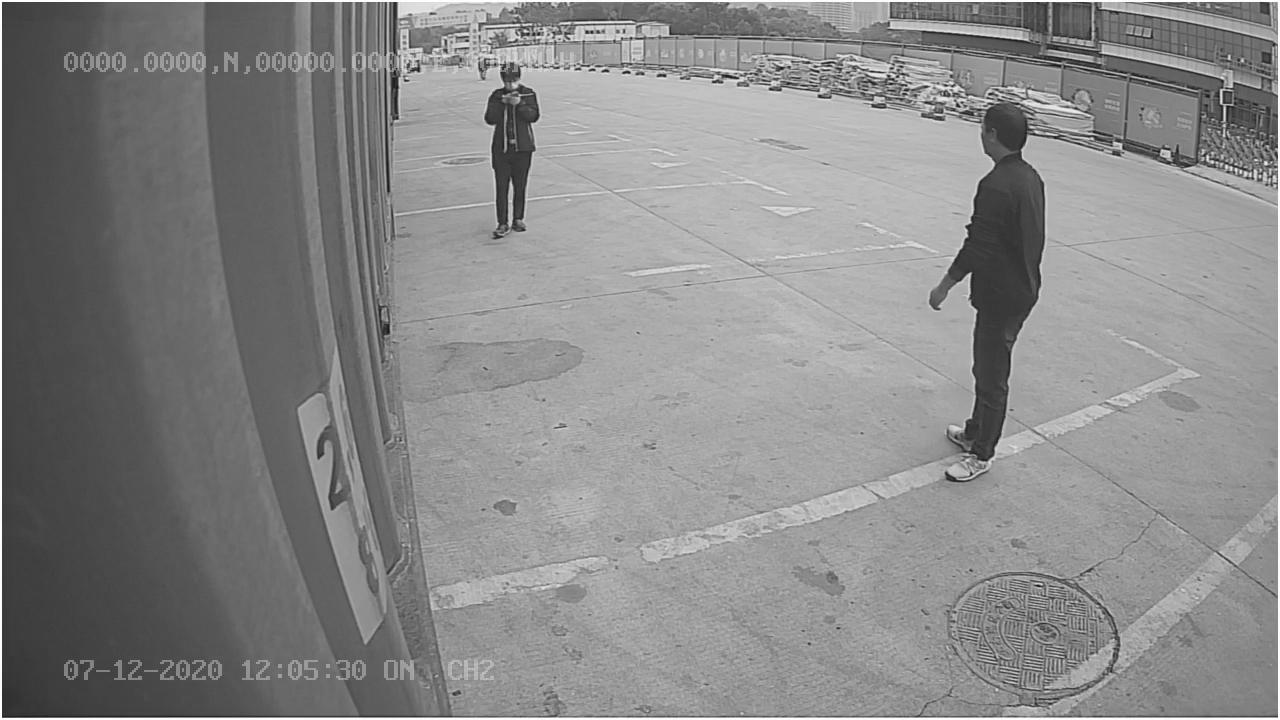person: (930, 97, 1058, 488)
